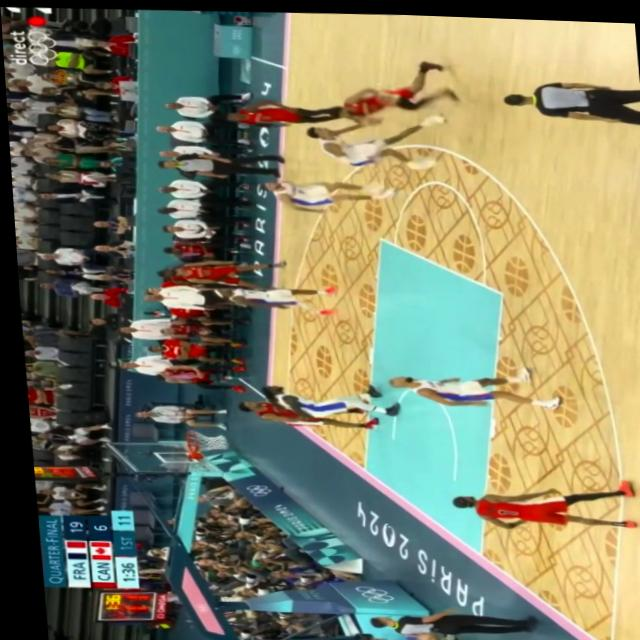ball_handler: (324, 57, 460, 124)
